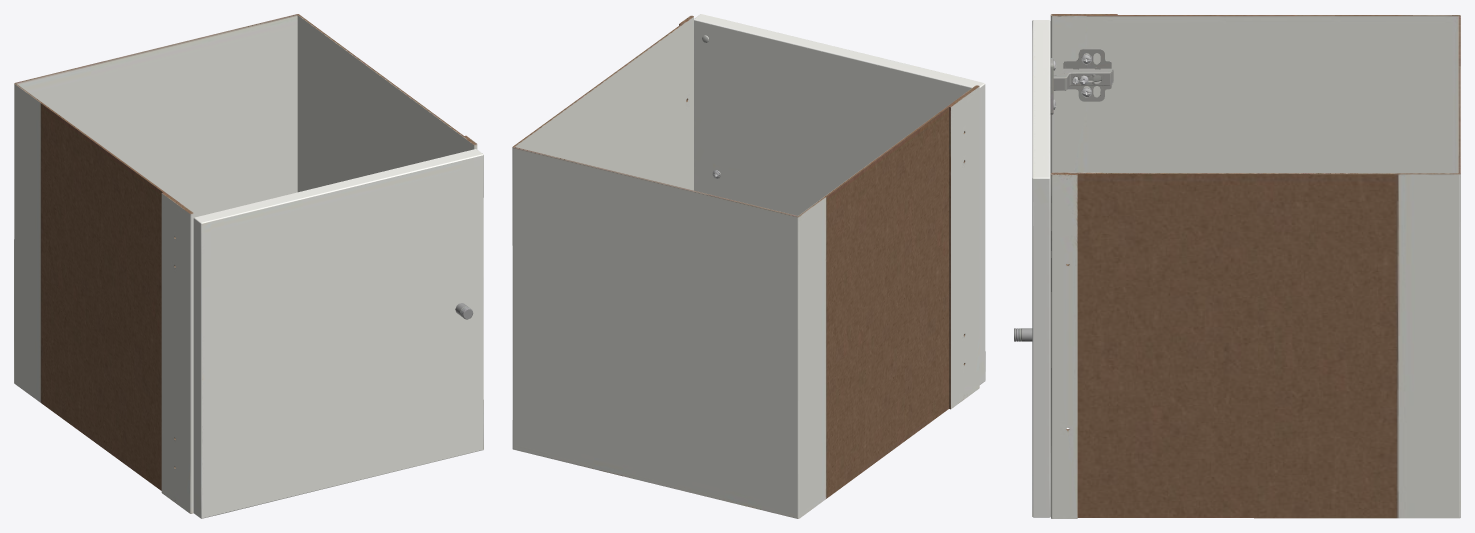
File: kallax_wkad_z_drzwiami_20278167.glb
The picture shows the model from 3 angles, left to right: view 1: azimuth 30°, elevation 25°; view 2: azimuth 150°, elevation 25°; view 3: azimuth 270°, elevation 25°; orthographic projection. The views are drawn at different scales.
Visible parts, largest first — view 1: kallax_wkad_z_drzwiami_20278167; view 2: kallax_wkad_z_drzwiami_20278167; view 3: kallax_wkad_z_drzwiami_20278167.
Part boxes in pixels (bbox=[...]): kallax_wkad_z_drzwiami_20278167: bbox=[14, 14, 483, 518]; kallax_wkad_z_drzwiami_20278167: bbox=[512, 14, 985, 518]; kallax_wkad_z_drzwiami_20278167: bbox=[1014, 14, 1460, 518].
Bounding box in the file's own units: 0.335 × 0.334 × 0.3931.
1 material, 1 textured.
